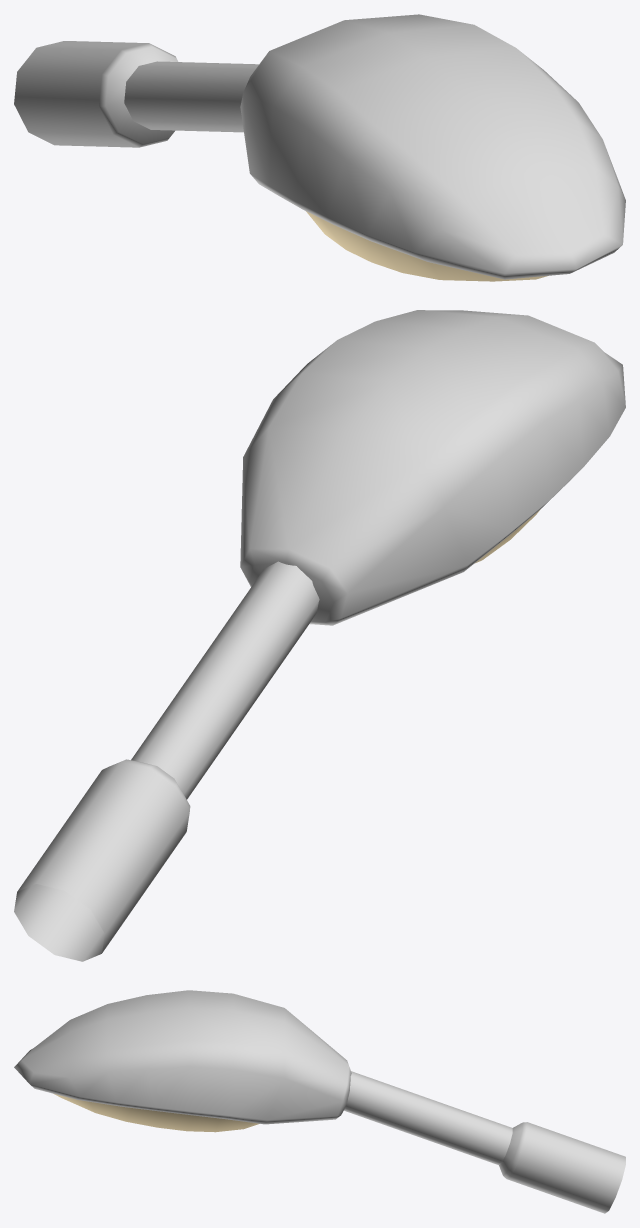
Rendered from StreetLight.obj.
The picture shows the model from 3 angles, top to bottom: view 1: azimuth 30°, elevation 25°; view 2: azimuth 150°, elevation 25°; view 3: azimuth 270°, elevation 25°; orthographic projection. The views are drawn at different scales.
Visible parts, largest first — view 1: StreetLight_LightSG1, StreetLight_PoleSG1; view 2: StreetLight_LightSG1, StreetLight_PoleSG1; view 3: StreetLight_LightSG1, StreetLight_PoleSG1.
Boxes of the visible parts, x1,y1,x2,y2 form: StreetLight_LightSG1: (240, 14, 625, 281); StreetLight_PoleSG1: (14, 41, 258, 147); StreetLight_LightSG1: (240, 310, 625, 625); StreetLight_PoleSG1: (14, 561, 319, 961); StreetLight_LightSG1: (14, 990, 351, 1132); StreetLight_PoleSG1: (344, 1071, 625, 1213).
Bounding box in the file's own units: 2.2 × 2.86 × 7.87.
Materials: 2 (2 with a texture image).
